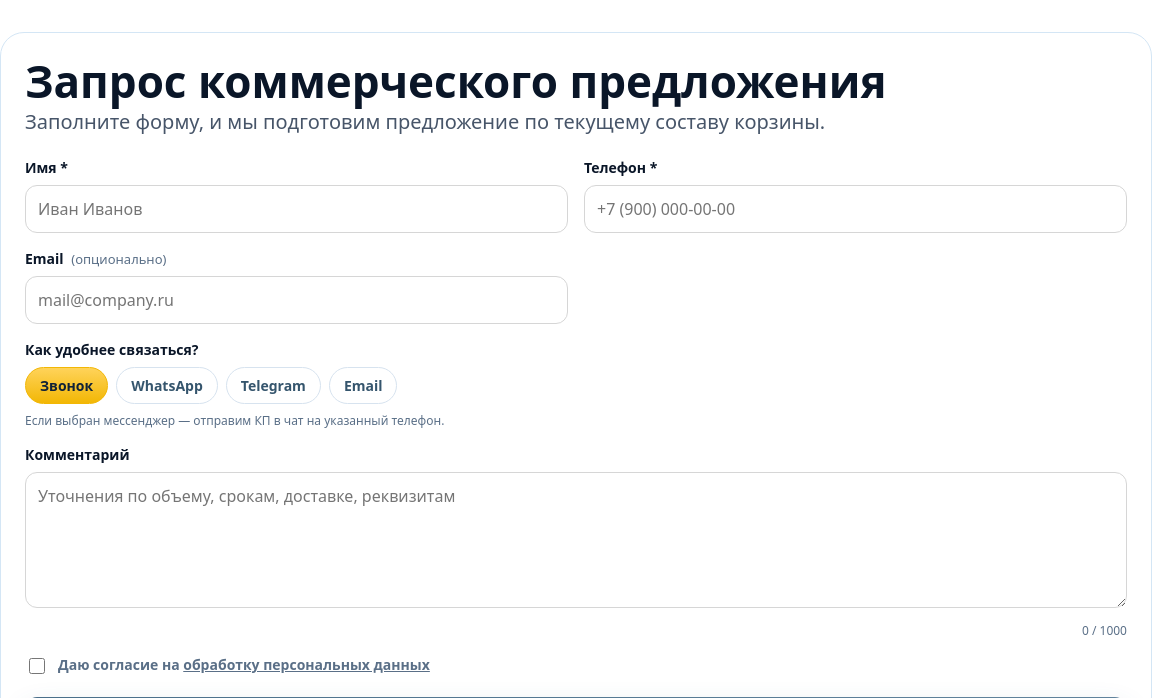
it: QuoteForm render flow › успешно отправляет с email-каналом, когда email указан
Type "Иван Петров" into the field labelled "Имя *".
click(296, 209); type("Иван Петров")  # box [25, 185, 568, 233]
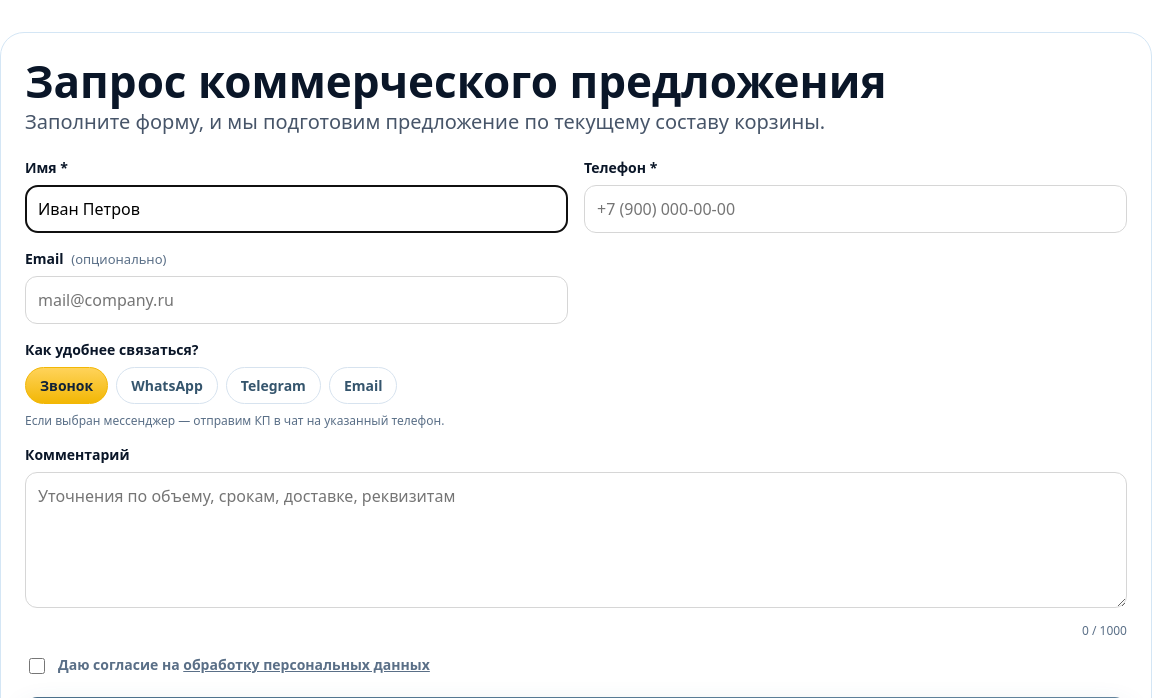
Type "+7 900 123-45-67" into the field labelled "Телефон *".
click(856, 209); type("+7 900 123-45-67")  # box [584, 185, 1127, 233]
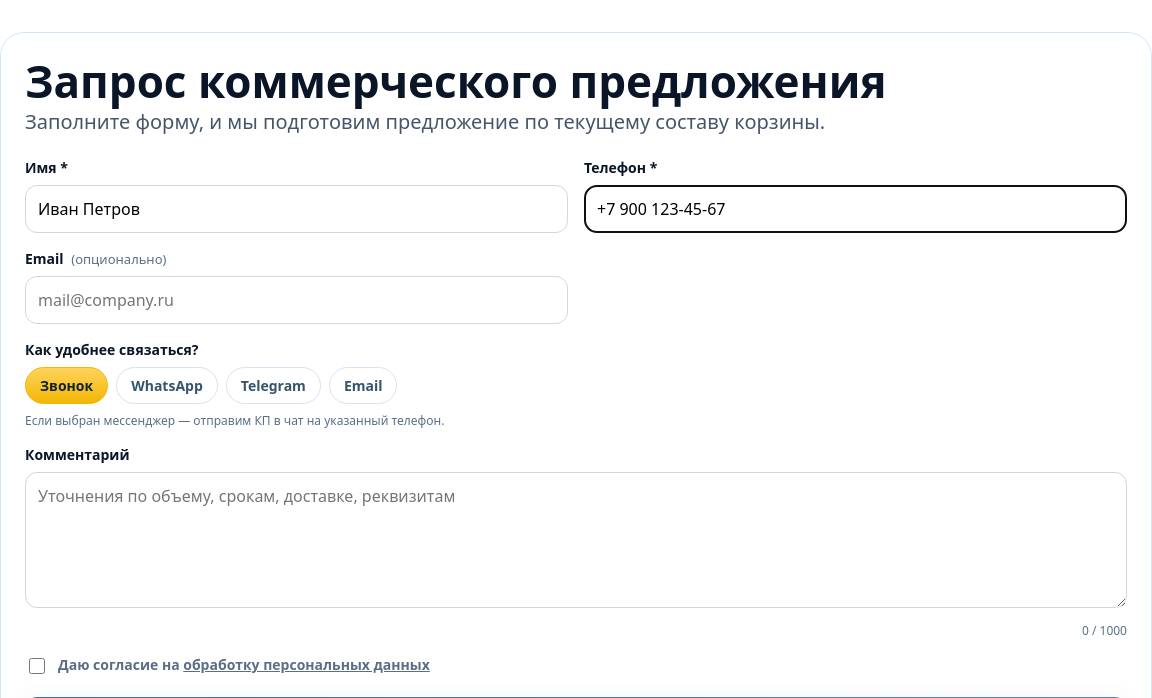
Click the checkbox labelled "Даю согласие на обработку персональных данных".
click(37, 666)  # box [29, 658, 45, 674]
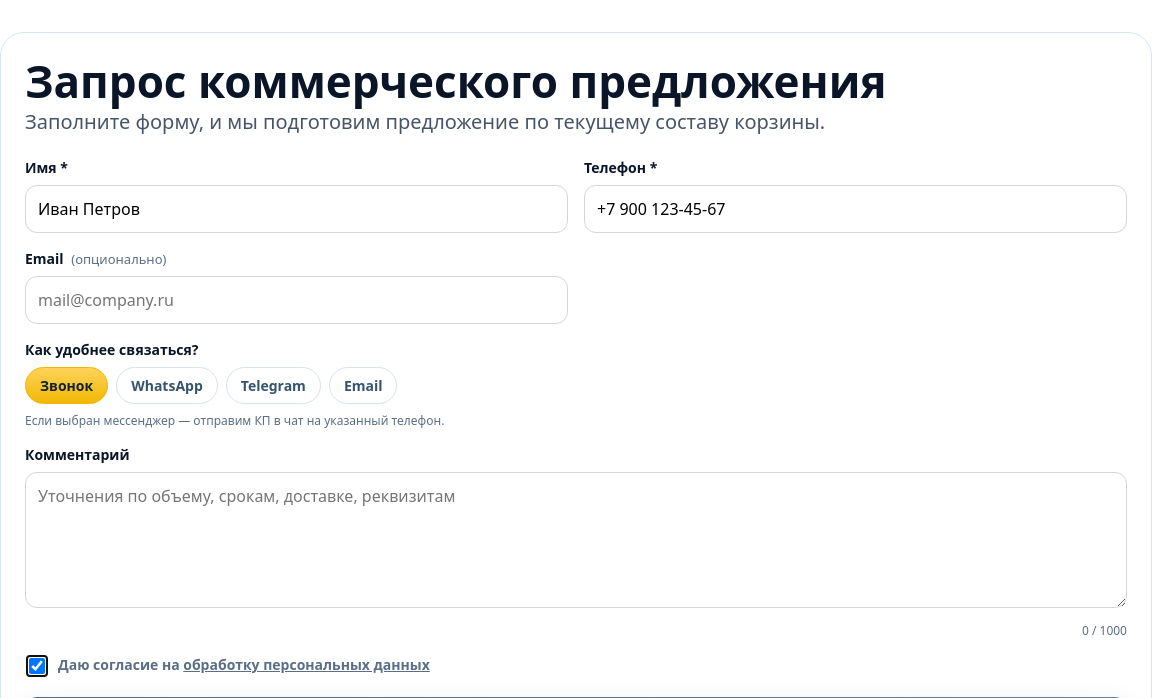
Type "buyer@company.ru" into the field labelled "Email (опционально)".
click(296, 300); type("buyer@company.ru")  # box [25, 276, 568, 324]
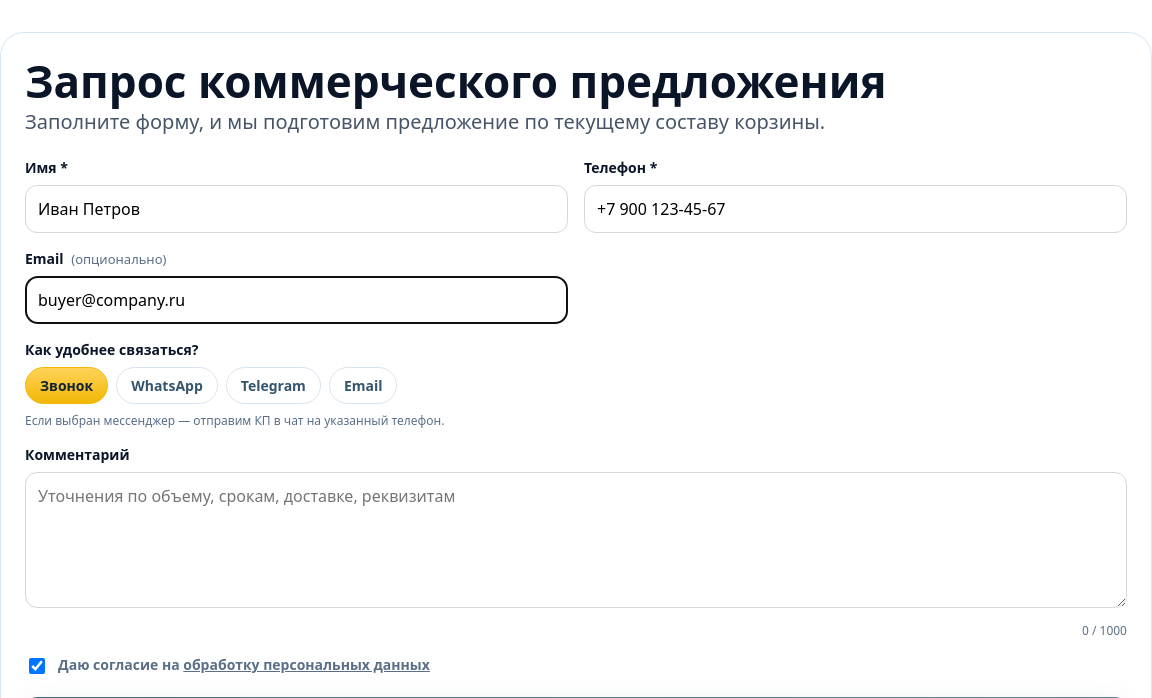
Click the radio button labelled "Email".
click(363, 386)  # box [329, 367, 398, 404]
(page scrolled)
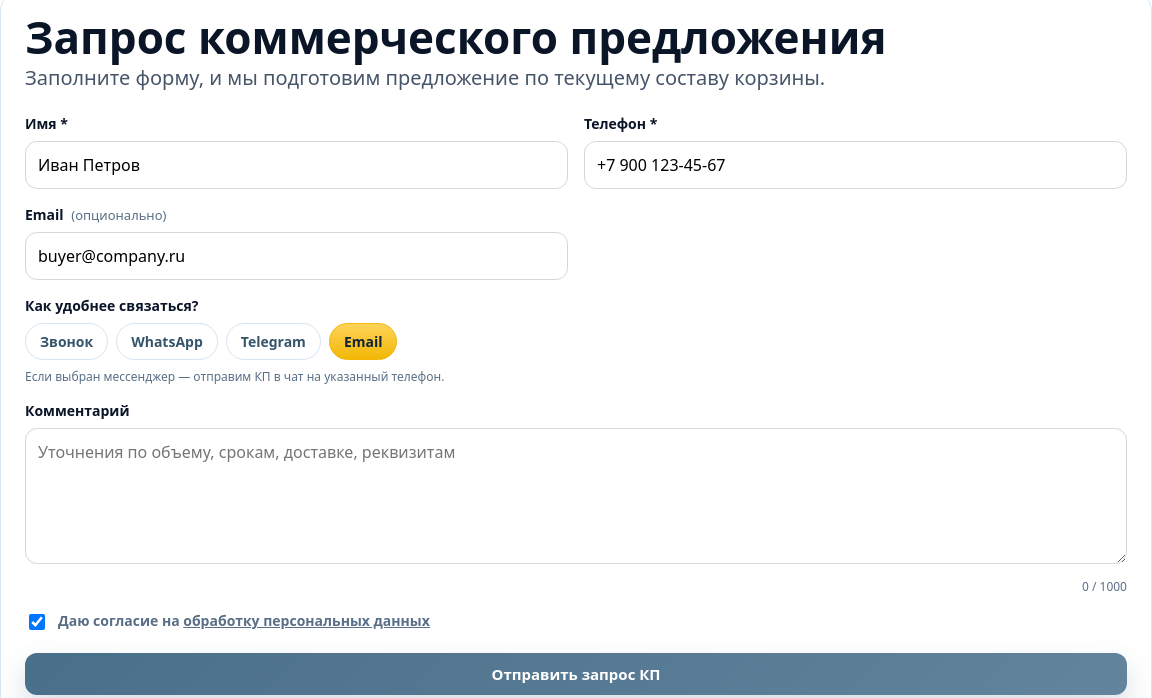
Click the button "Отправить запрос КП".
click(576, 674)  # box [25, 653, 1127, 695]
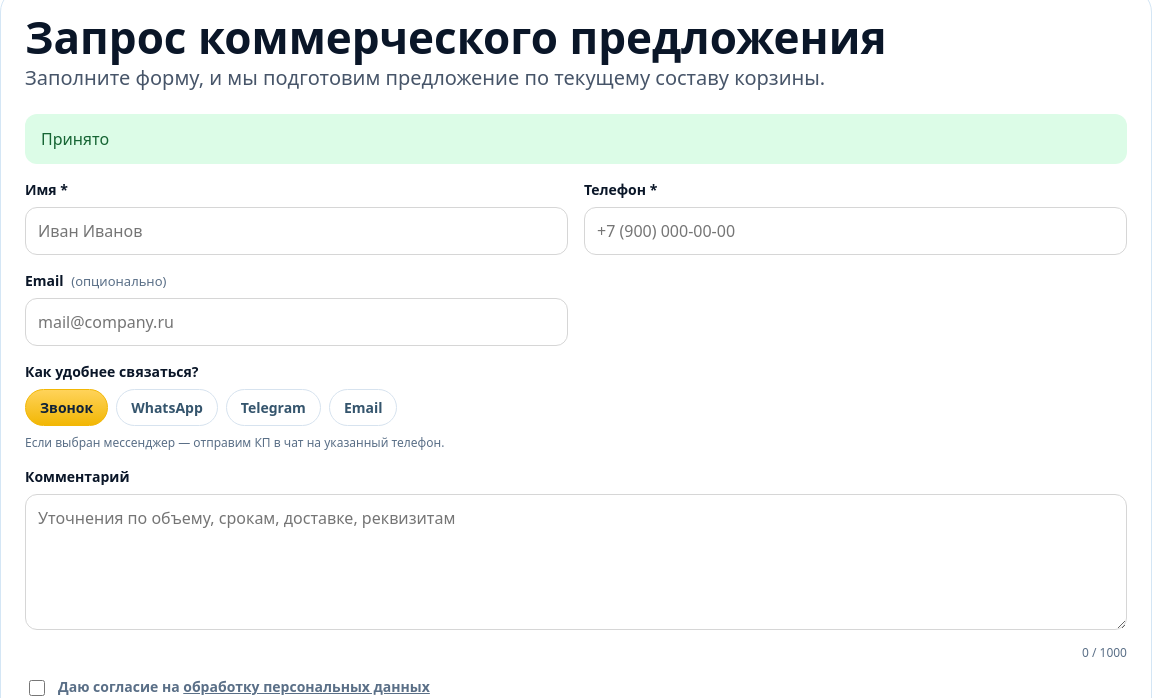
expect the text "Принято" is shown: met, box [25, 114, 1127, 164]
